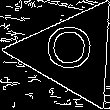O_S: (45, 27, 97, 80)
